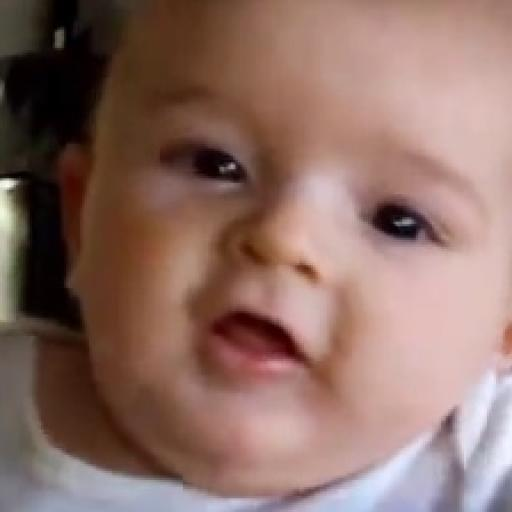Autism: (84, 25, 512, 473)
